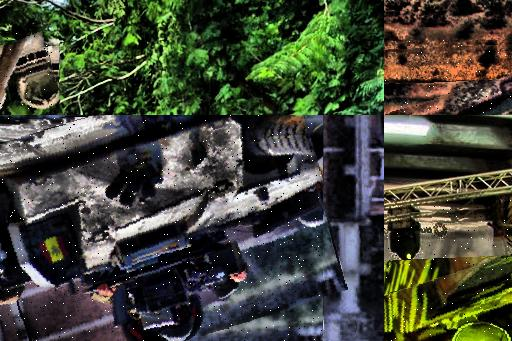tanks: (1, 116, 324, 341), (385, 254, 512, 341), (1, 32, 59, 108)
